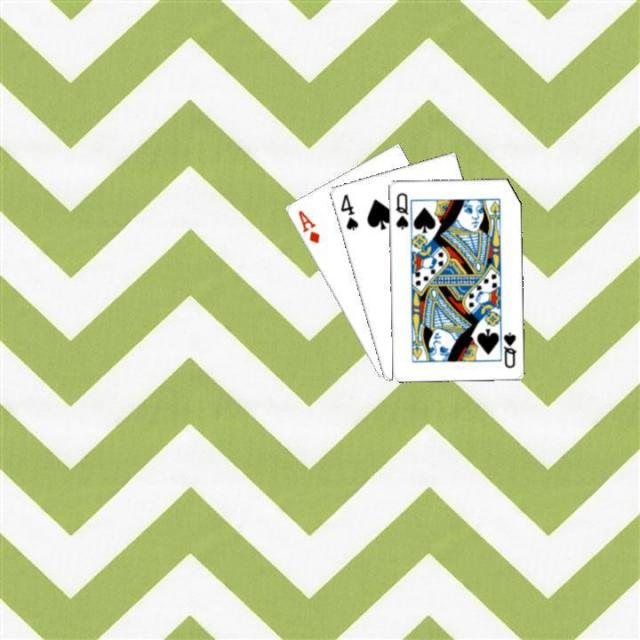4S: (336, 190, 360, 232)
AD: (293, 207, 321, 246)
QS: (391, 189, 410, 231), (500, 328, 518, 369)
